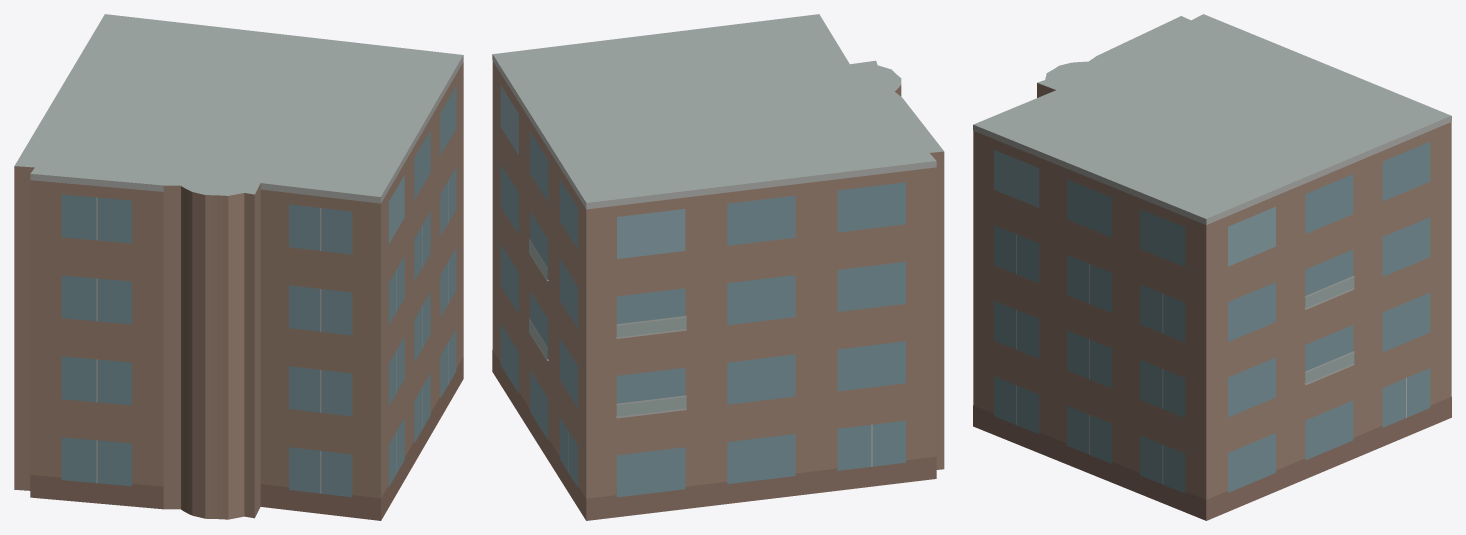
Rendered from survey-upis-32916718.glb.
3 renders of one model, left to right at view 1: azimuth 30°, elevation 25°; view 2: azimuth 150°, elevation 25°; view 3: azimuth 270°, elevation 25°, orthographic. The views are drawn at different scales.
Parts seen in each view (by area): view 1: survey-upis-32916718.tmp; view 2: survey-upis-32916718.tmp; view 3: survey-upis-32916718.tmp.
Boxes of the visible parts, x1,y1,x2,y2 form: survey-upis-32916718.tmp: [14, 14, 463, 520]; survey-upis-32916718.tmp: [492, 14, 944, 520]; survey-upis-32916718.tmp: [973, 14, 1451, 520].
Size of the model in its own units: 17.79 by 12.2 by 17.54.
